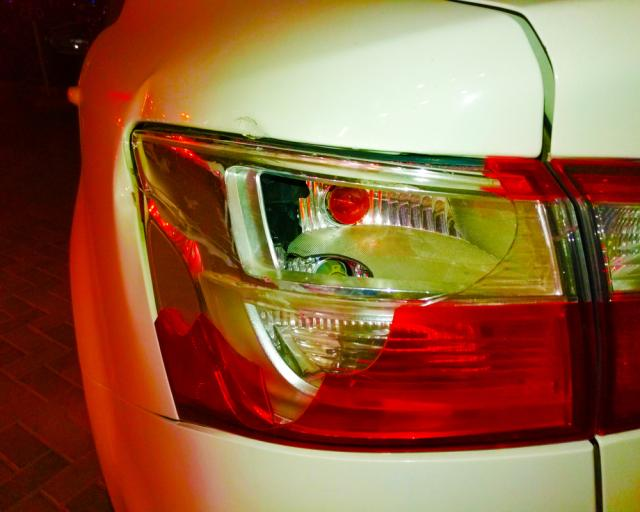lamp broken: (129, 125, 598, 453)
